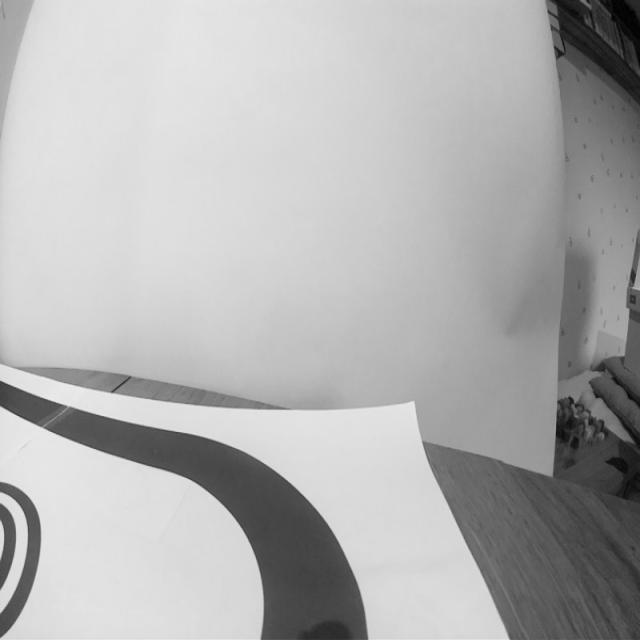laneLeftTurn: (171, 458, 388, 640)
